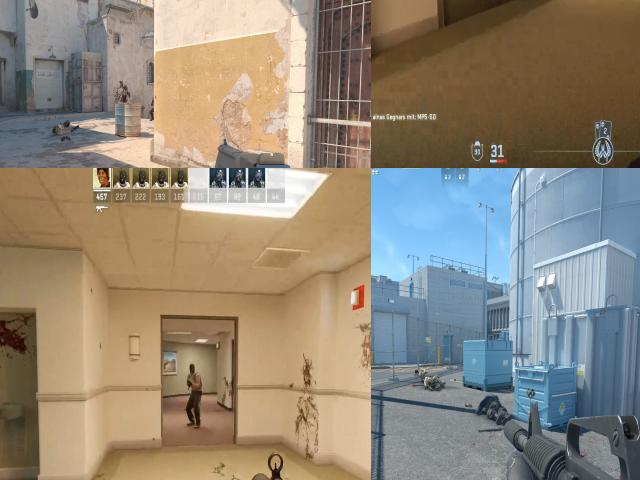Bomb: (465, 400, 474, 411)
CT: (150, 95, 154, 121)
Dead: (478, 392, 524, 427), (422, 376, 446, 394), (54, 119, 79, 136), (409, 366, 431, 378)
T: (184, 357, 202, 396)
T-Head: (185, 361, 199, 380)
